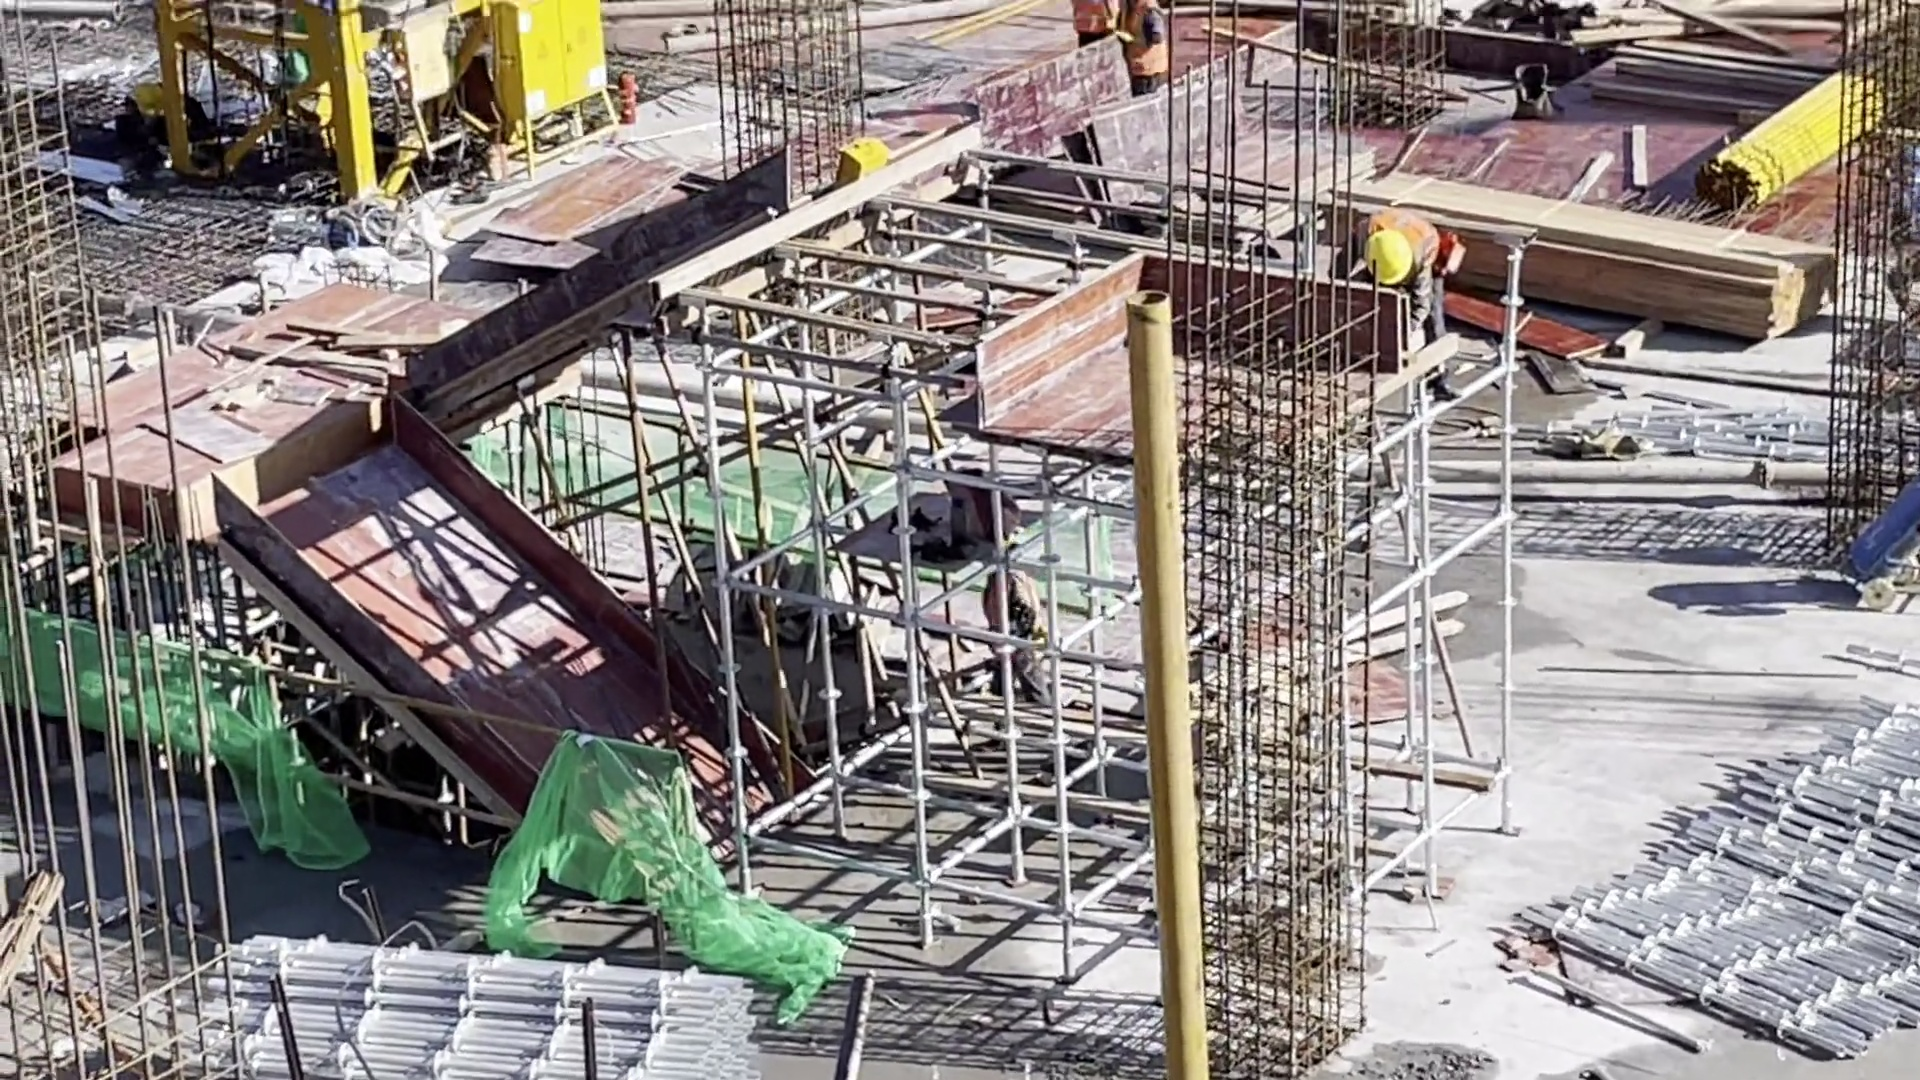ebox: (489, 2, 621, 179)
helmet: (1372, 228, 1411, 283), (135, 75, 172, 125)
person: (1344, 208, 1469, 395), (118, 76, 204, 178), (1114, 1, 1174, 91), (1070, 4, 1114, 48)
scaffold: (1509, 685, 1917, 1068), (207, 926, 763, 1080)
vest: (1359, 208, 1439, 262), (1115, 6, 1172, 77), (1070, 2, 1111, 38)
wood: (1339, 171, 1837, 345)
